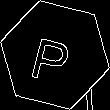P_N: (31, 26, 79, 84)
